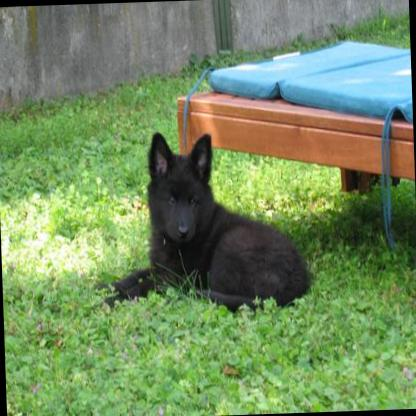groenendael: (102, 124, 310, 315)
